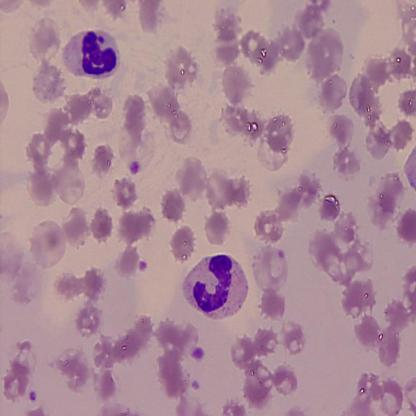Band Neutrophil: (181, 251, 249, 320), (60, 28, 122, 86)
